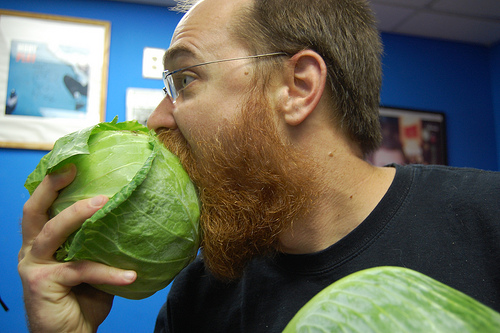cabbage: (23, 112, 202, 300), (280, 264, 499, 332)
